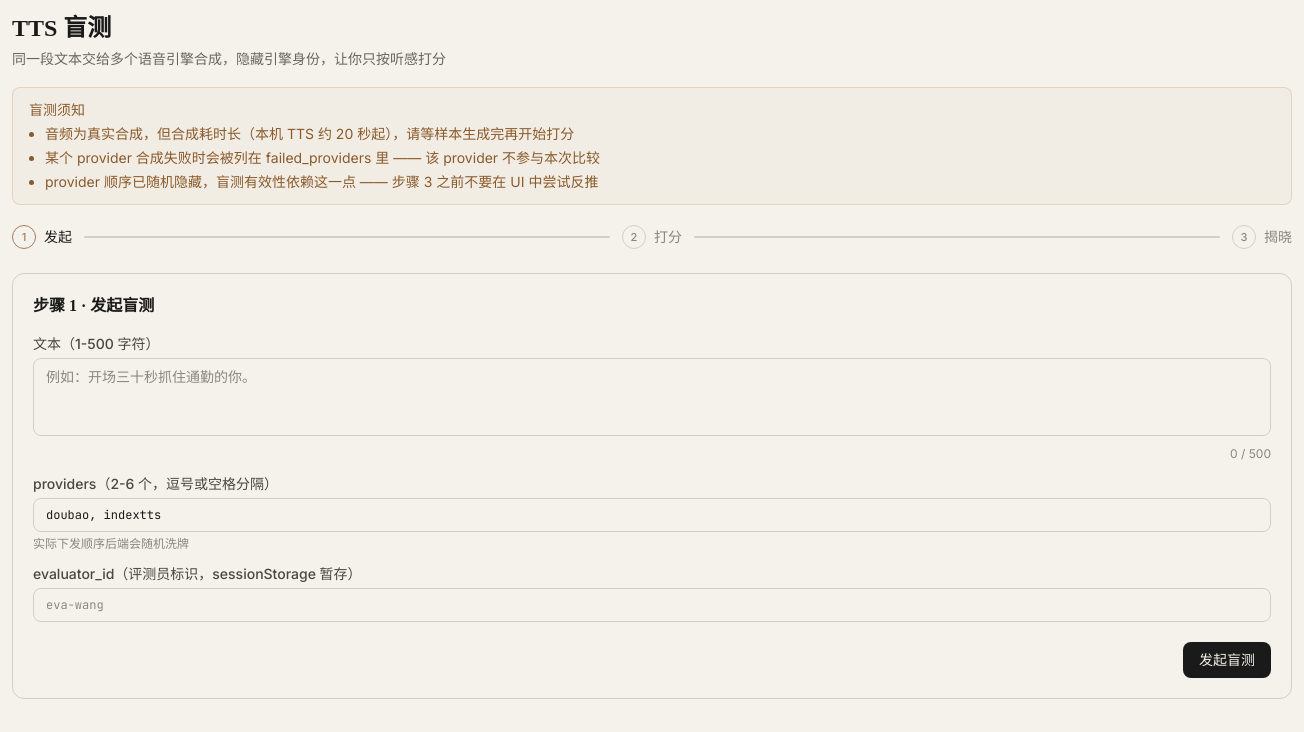
Test case: TtsBlindTest › 步骤 2 评分输入 → submitBlindTest 跳步骤 3
In the text box with placeholder "例如：开场三十秒抓住通勤的你。": (652, 397) top-left (33, 358), bottom-right (1271, 436), type "test"
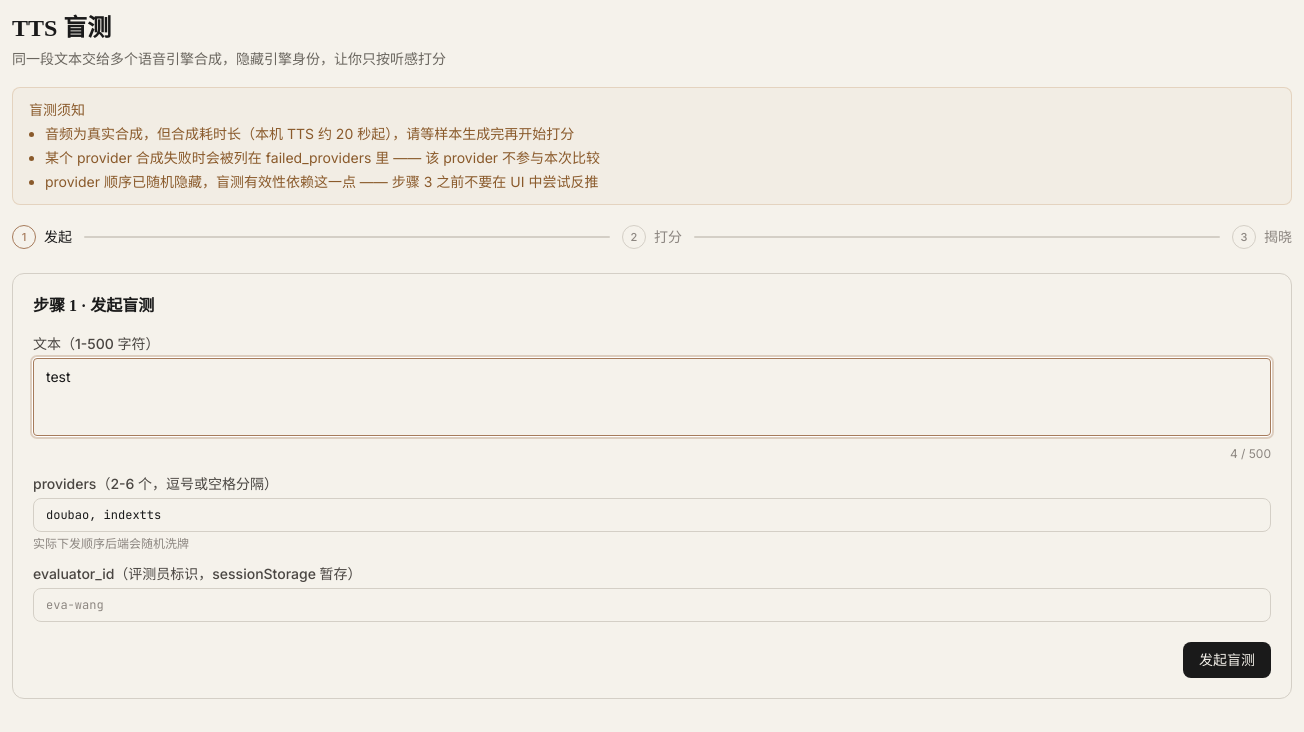
In the field with placeholder "eva-wang": (652, 605) top-left (33, 588), bottom-right (1271, 622), type "eva-1"
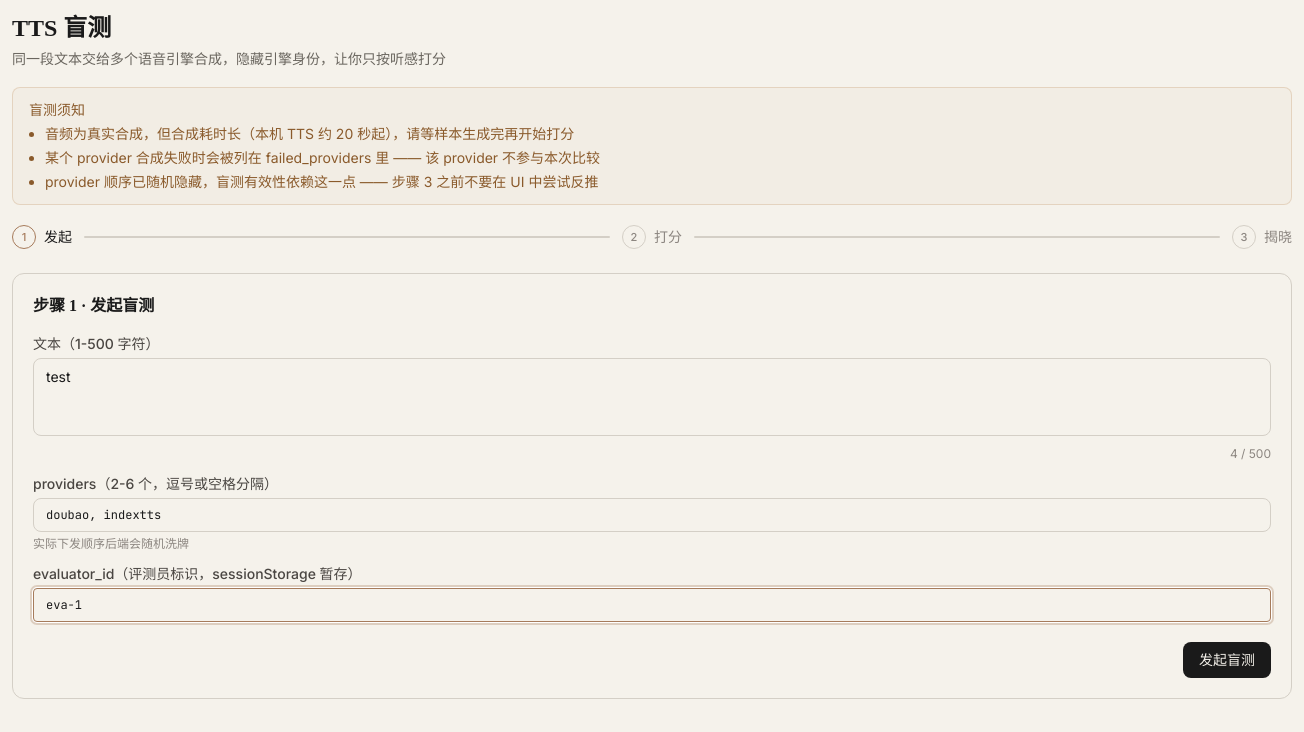
Click the button "发起盲测": (1227, 660) top-left (1183, 642), bottom-right (1271, 678)
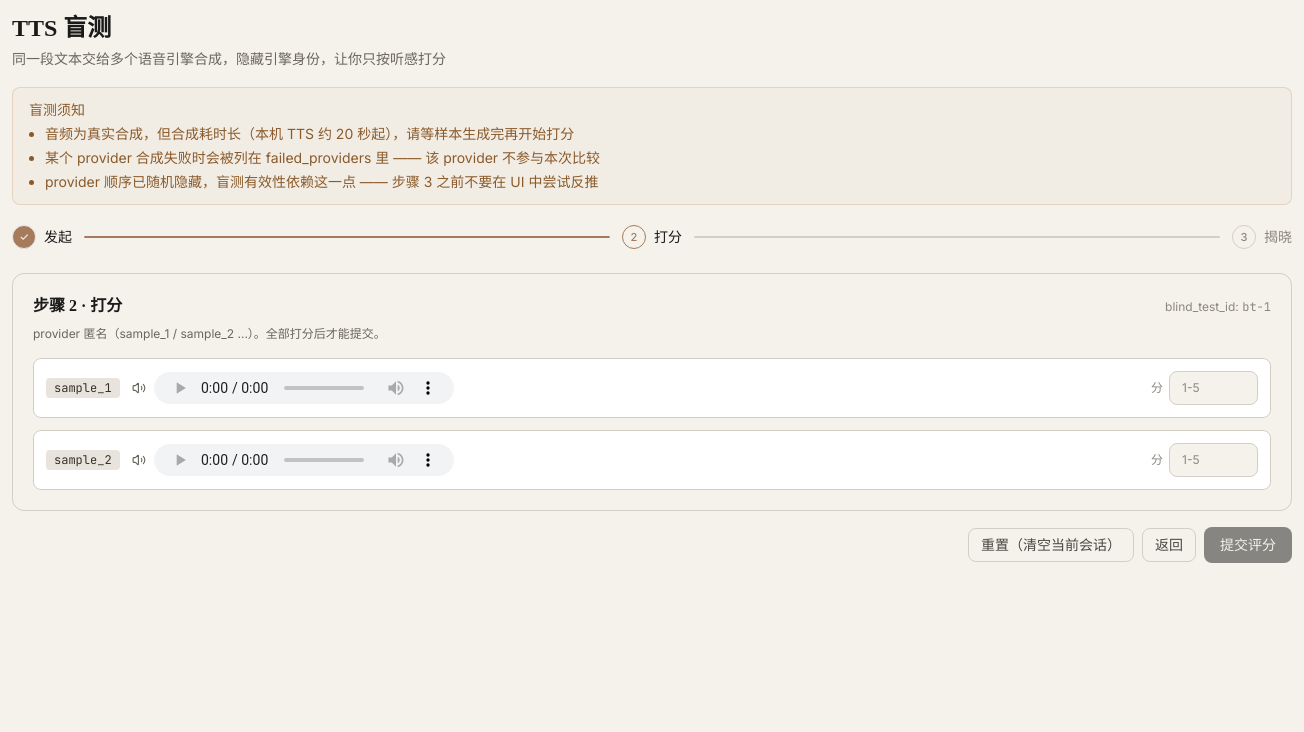
Result: the heading "步骤 2 · 打分" is shown at top-left (33, 294), bottom-right (122, 318)
In the 1st number field with placeholder "1-5": (1214, 388) top-left (1169, 371), bottom-right (1258, 405), type "4"
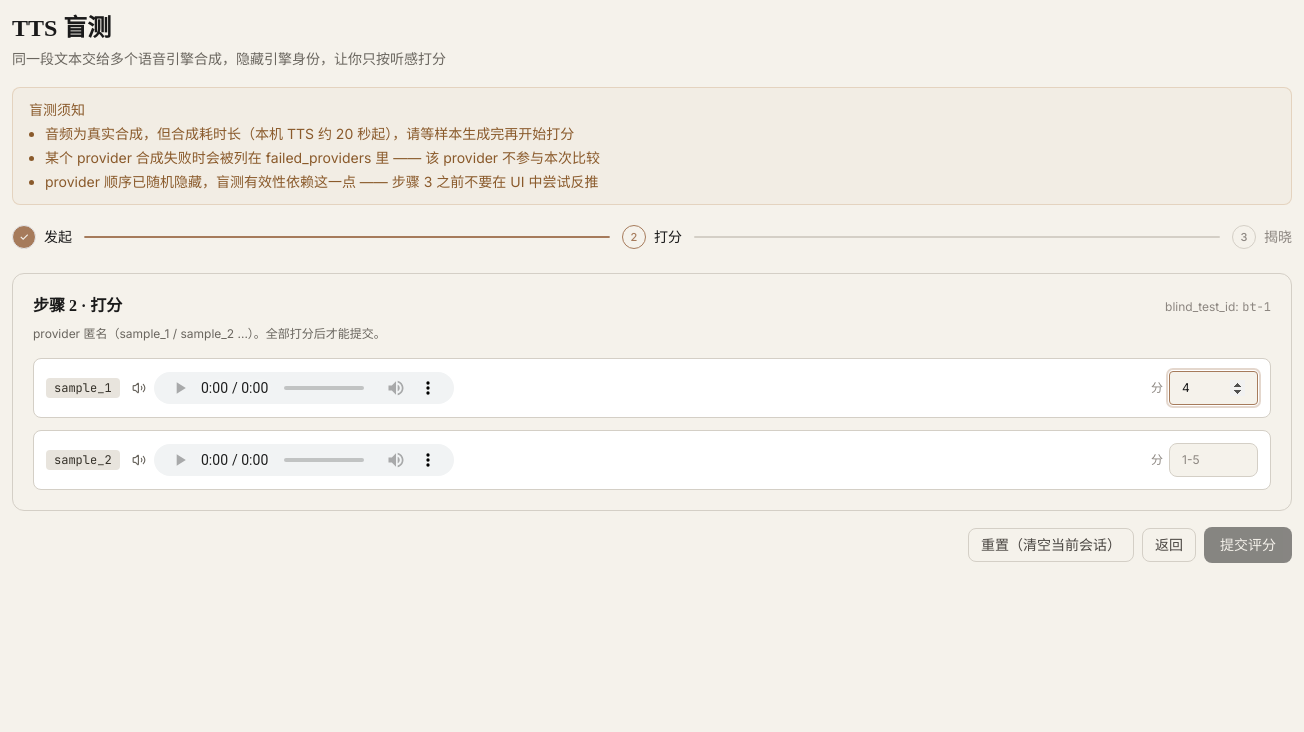
In the number field with placeholder "1-5": (1214, 460) top-left (1169, 443), bottom-right (1258, 477), type "5"
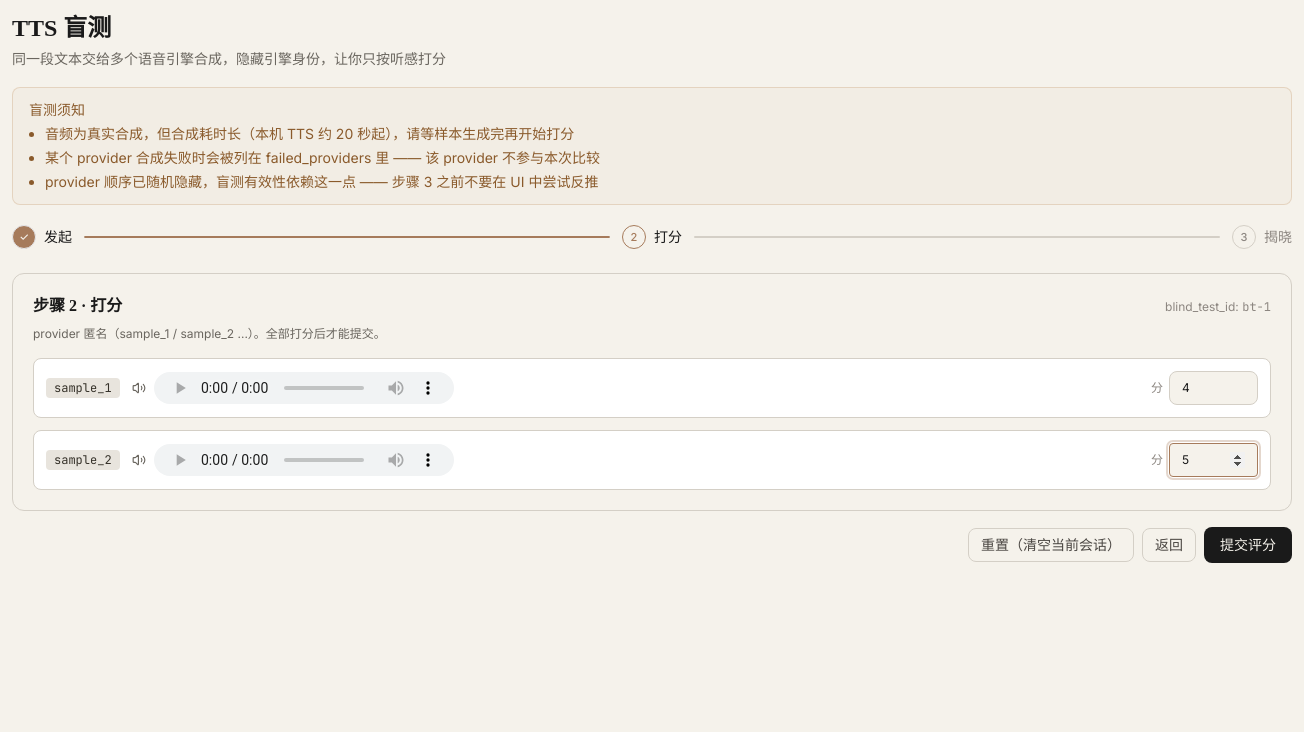
Click the button "提交评分": (1248, 545) top-left (1204, 527), bottom-right (1292, 563)
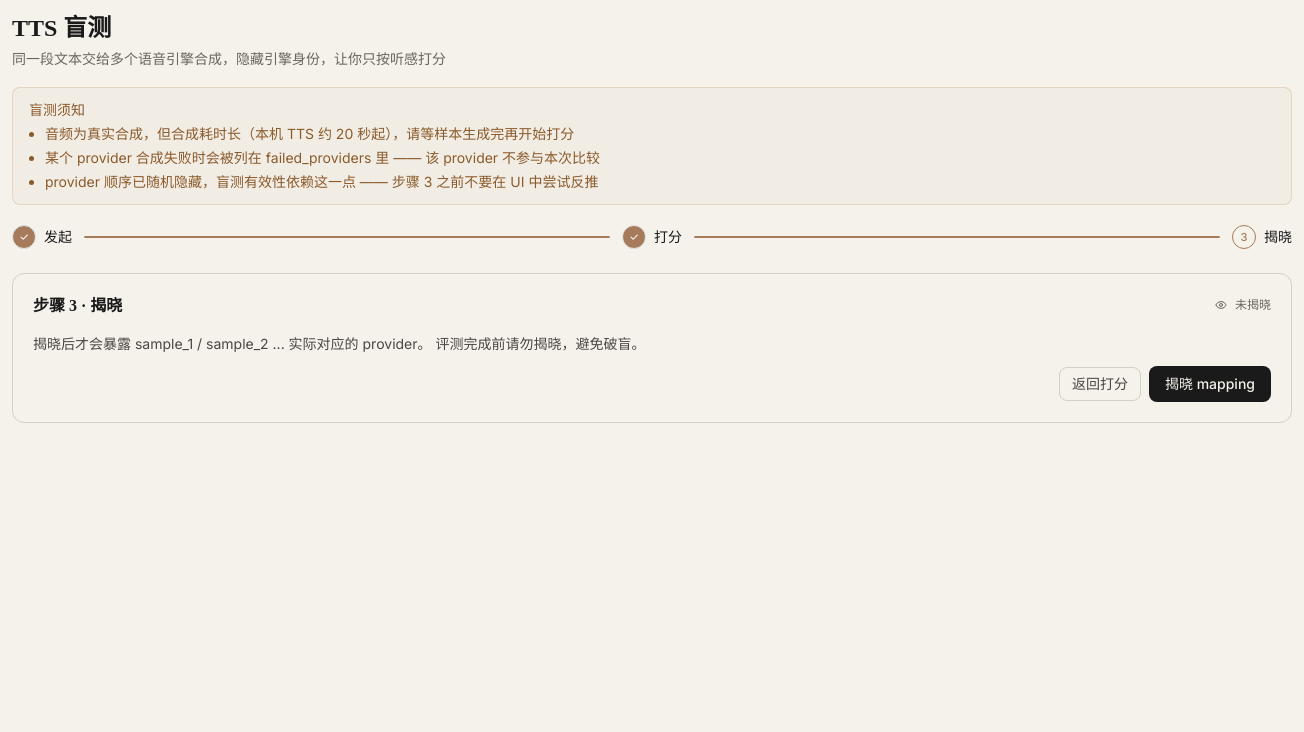
Result: the heading "步骤 3 · 揭晓" is shown at top-left (33, 294), bottom-right (122, 318)
